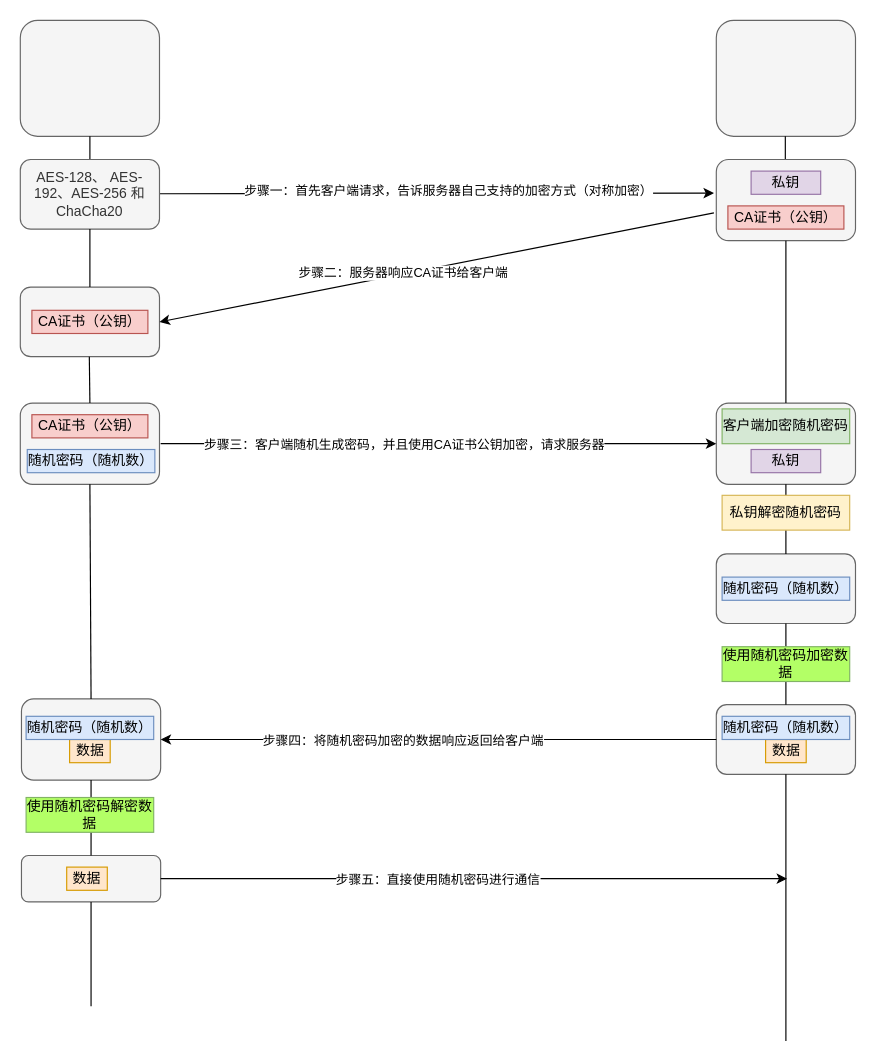
Image size: 876x1063. Some labels were removed from this diagram. Here are the shapes that lost their labels. From the top down, the centre of each, then its label:
At point (89, 77): "客户端".
At point (785, 77): "服务端".
